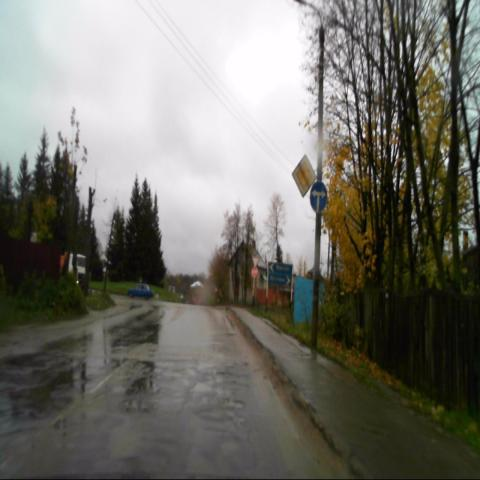2_2: (292, 154, 316, 197)
4_1_6: (310, 181, 328, 213)
